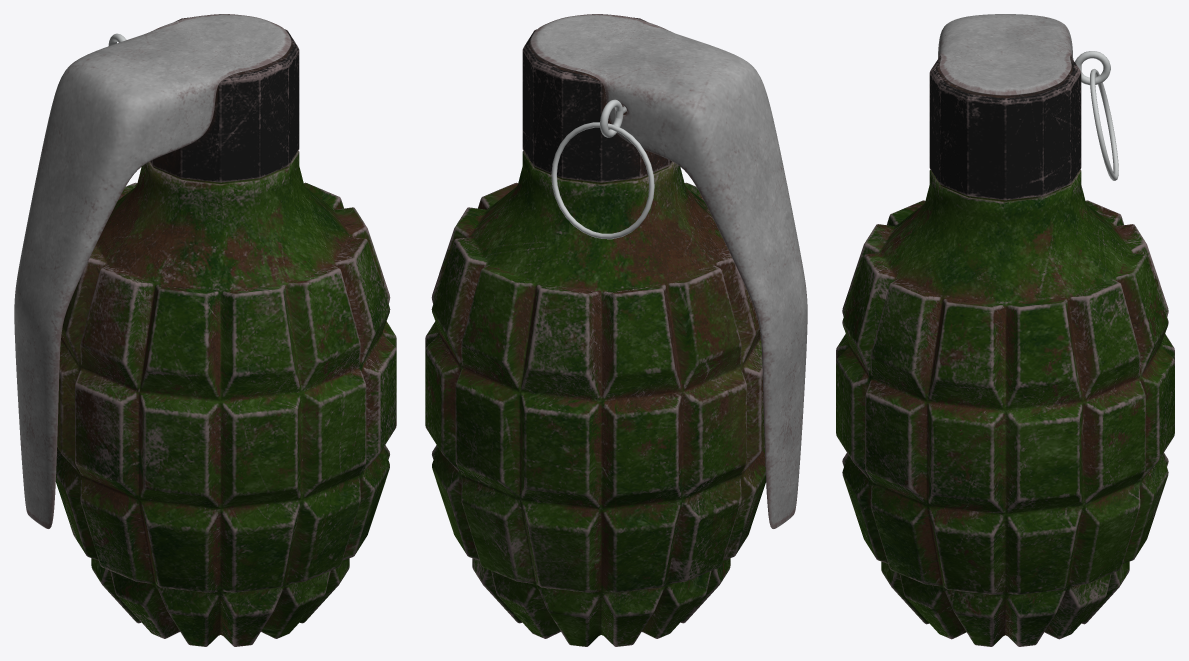
The model's file is grenade.glb.
The picture shows the model from 3 angles, left to right: view 1: azimuth 30°, elevation 25°; view 2: azimuth 150°, elevation 25°; view 3: azimuth 270°, elevation 25°; orthographic projection. The views are drawn at different scales.
Visible parts, largest first — view 1: grenade; view 2: grenade; view 3: grenade.
Boxes of the visible parts, x1,y1,x2,y2 form: grenade: (14,14,396,646); grenade: (425,14,807,646); grenade: (836,14,1174,646).
Size of the model in its own units: 2.39 by 3.79 by 2.12.
Materials: 1 (1 with a texture image).
